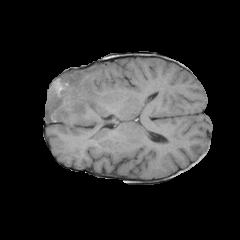glioma: (43, 72, 101, 127)
